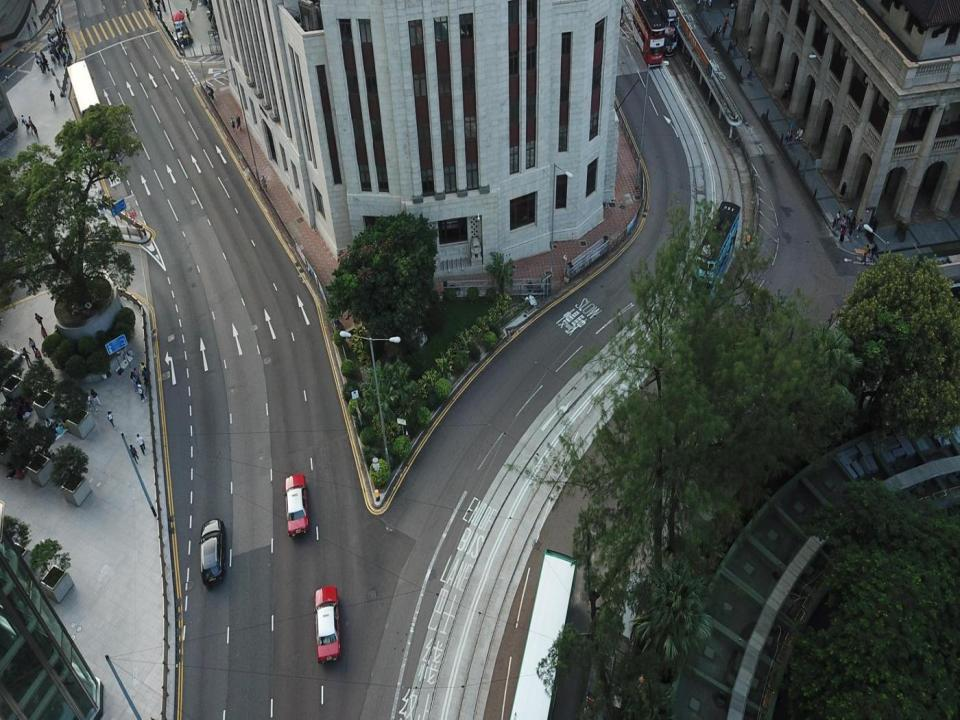bus: (510, 548, 576, 719), (688, 200, 739, 305), (627, 1, 664, 68), (654, 0, 677, 58)
car: (314, 586, 339, 665), (200, 517, 224, 587), (284, 475, 308, 538)
